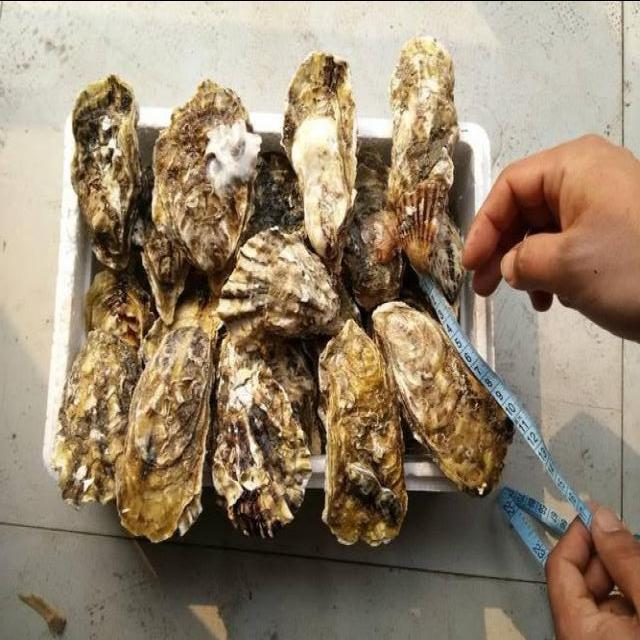Oyster- Indeterminate: (363, 296, 532, 514), (136, 57, 269, 281), (45, 265, 155, 527), (105, 315, 219, 555), (311, 314, 421, 556), (372, 25, 470, 287), (207, 330, 318, 560), (212, 216, 375, 370), (270, 37, 365, 263), (61, 61, 154, 271), (334, 125, 413, 323), (263, 331, 335, 470), (132, 219, 196, 337), (423, 203, 472, 333), (248, 134, 305, 234)
